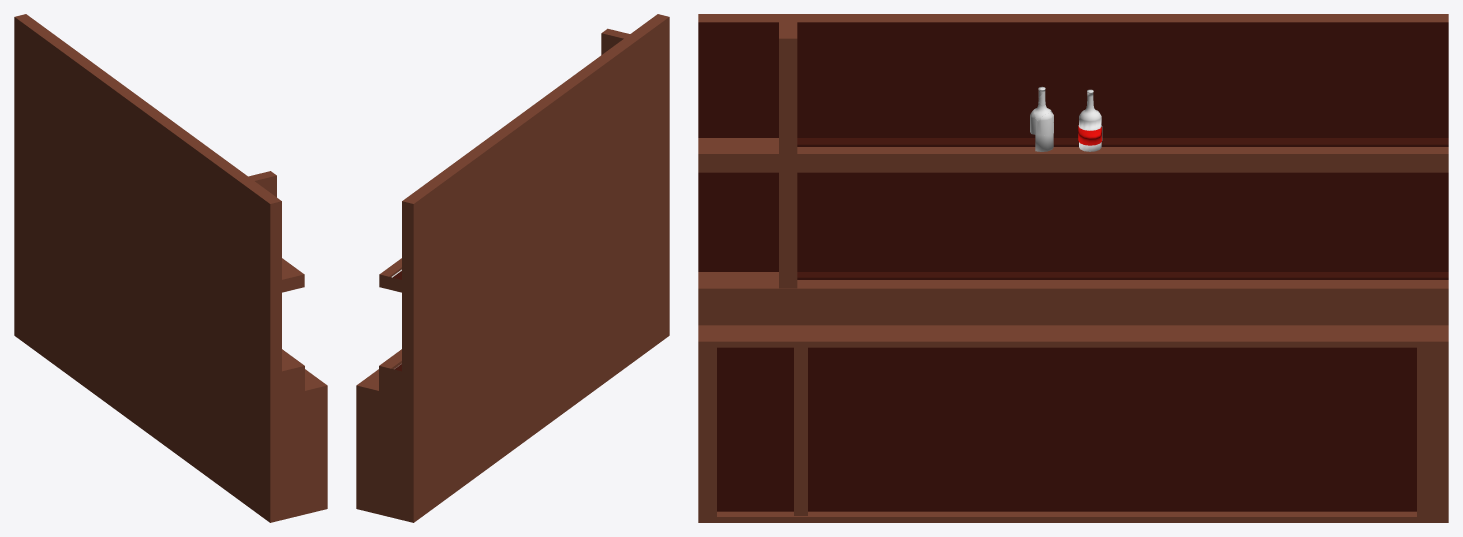
File: barshelf.fbx
3 views of the same model, side by side, from view 1: azimuth 30°, elevation 25°; view 2: azimuth 150°, elevation 25°; view 3: azimuth 270°, elevation 25° (orthographic). The views are drawn at different scales.
Visible parts, largest first — view 1: Cube; view 2: Cube; view 3: Cube, Cube.016.
Part boxes in pixels (box(x1,y1,x2,y2)): Cube: box(14, 14, 327, 522); Cube: box(356, 14, 669, 522); Cube: box(698, 14, 1448, 522); Cube.016: box(1078, 89, 1102, 151).
Size of the model in its own units: 152 by 807 by 1173.
